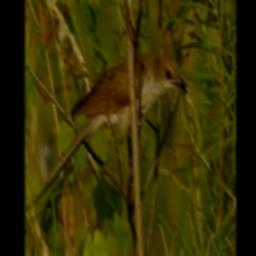Cuckoo: (32, 54, 187, 206)
